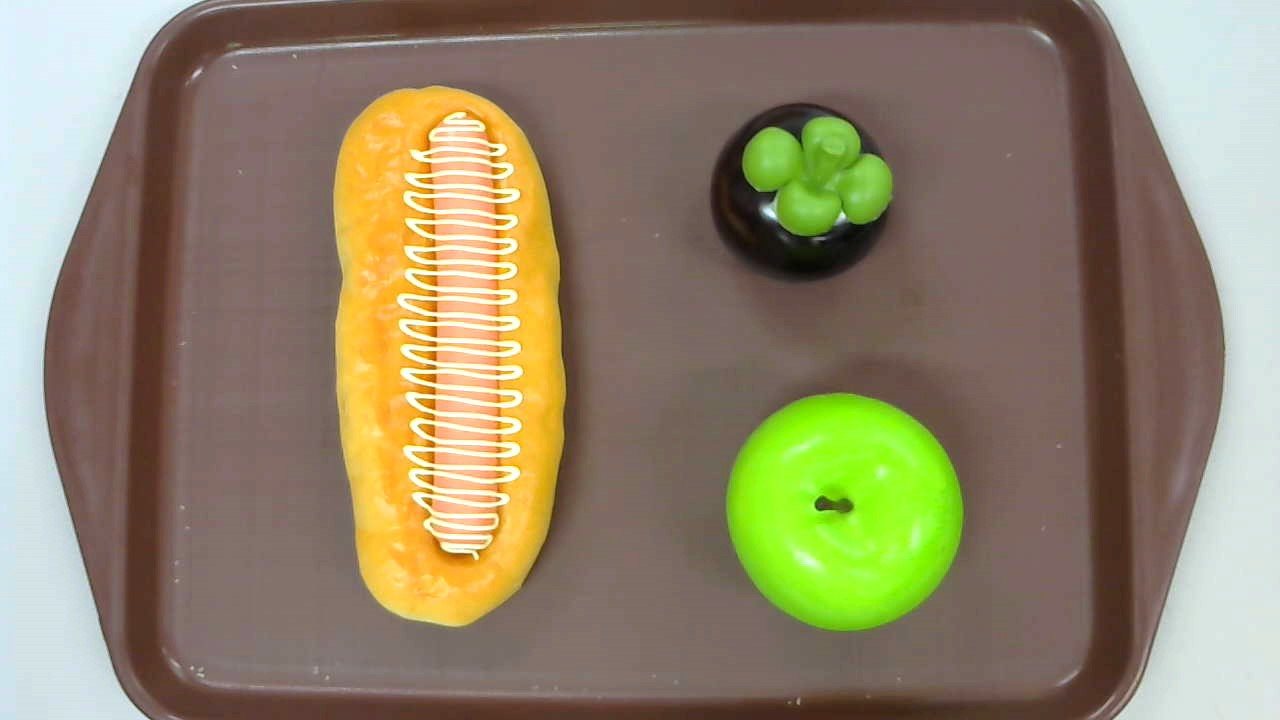green apple: (726, 392, 963, 629)
hot dog: (333, 84, 568, 628)
mangosteen: (710, 103, 896, 284)
